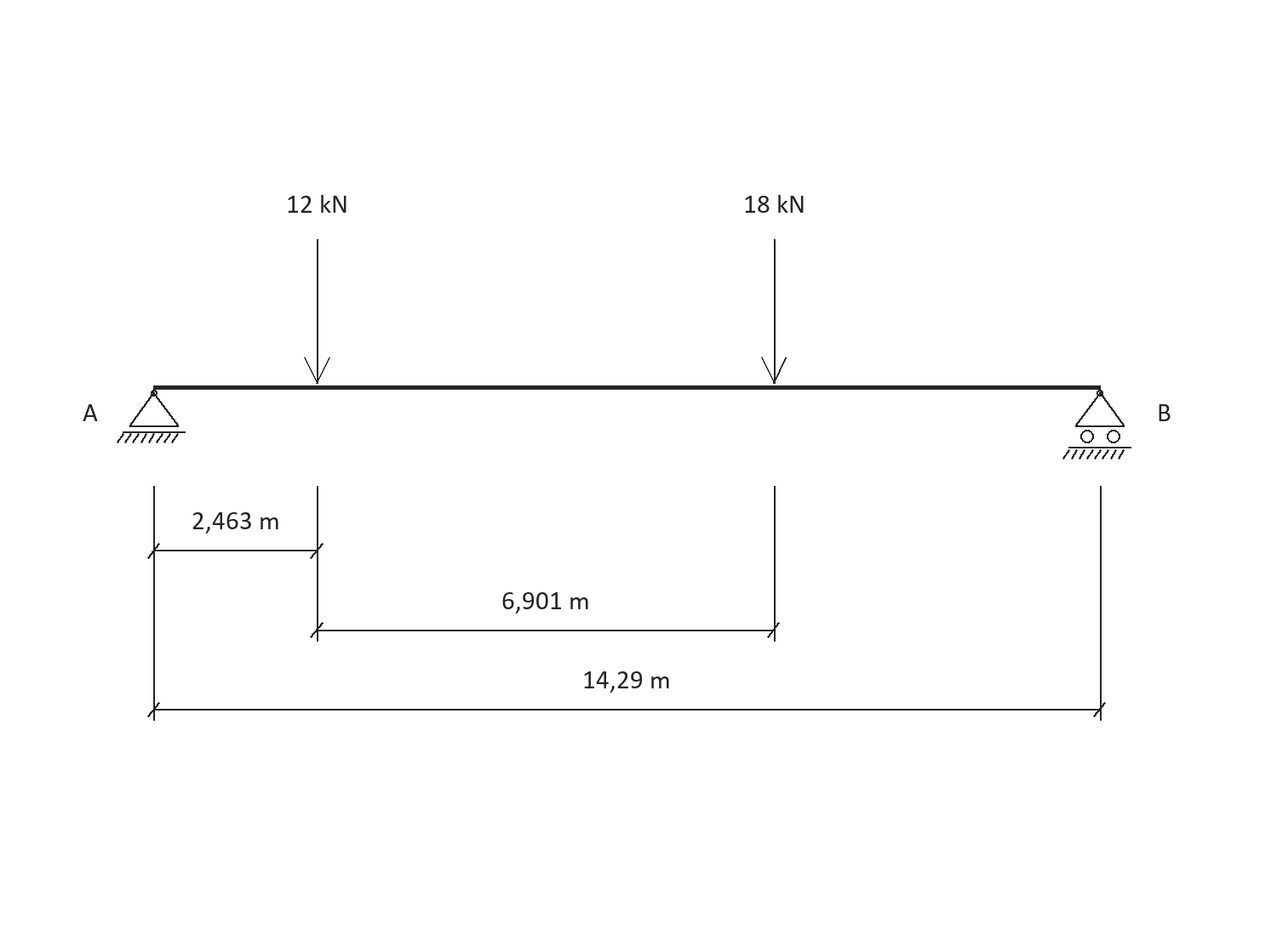pin_support: (117, 390, 186, 443)
point_load: (304, 239, 330, 384), (761, 239, 787, 384)
roller_support: (1062, 390, 1131, 459)
